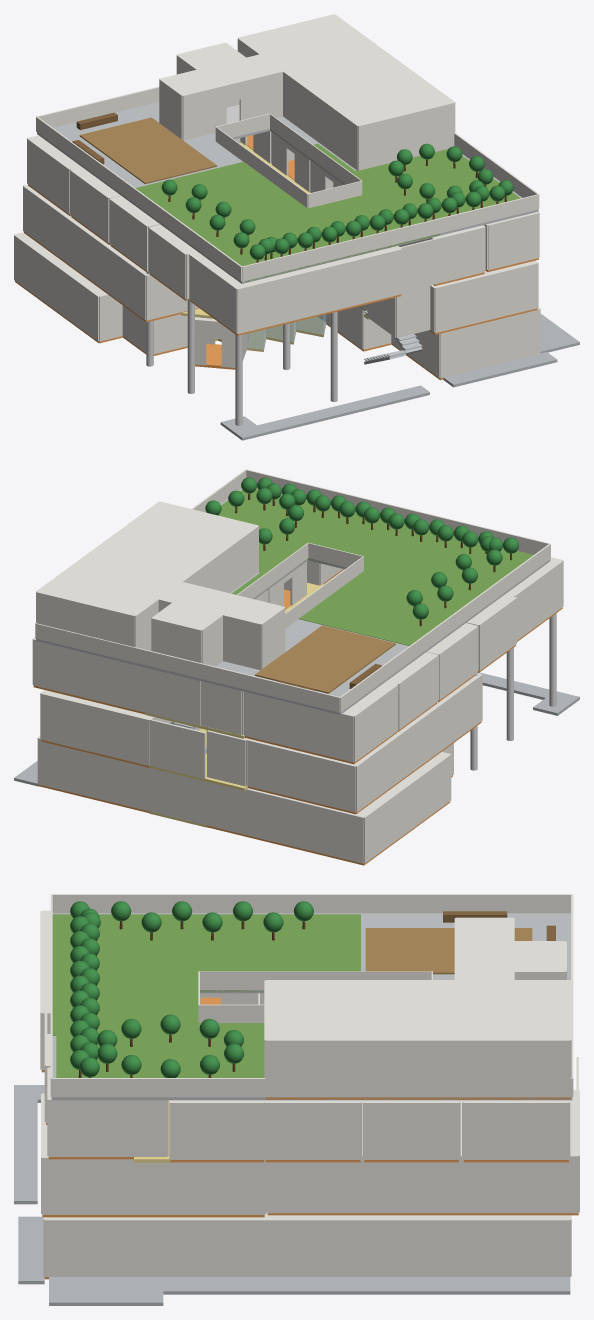
The model's file is school_building_1_parts.obj.
3 views of the same model, one above another, from view 1: azimuth 30°, elevation 25°; view 2: azimuth 150°, elevation 25°; view 3: azimuth 270°, elevation 25° (orthographic). The views are drawn at different scales.
Parts seen in each view (by area): view 1: RF_Roof_Garden_001, RF_Ceiling_003, 3F_Wall_024, RF_Roof_Terrace_001, RF_Roof_Slab_001, 2F_Wall_033, RF_Parapet_031, 1F_Wall_029, RF_Parapet_023, 1F_Wall_005, RF_Roof_Garden_002, RF_Parapet_024 (+44 smaller); view 2: RF_Roof_Garden_001, RF_Ceiling_003, 1F_Wall_001, 2F_Wall_001, 2F_Wall_016, 3F_Wall_026, RF_Roof_Terrace_001, RF_Parapet_029, 3F_Wall_001, 1F_Wall_027, 1F_Wall_005, RF_Parapet_032 (+35 smaller); view 3: 1F_Wall_028, RF_Roof_Garden_001, RF_Parapet_022, RF_Ceiling_003, 2F_Wall_032, 1F_Ground_001, RF_Parapet_032, 3F_Wall_048, 3F_Wall_027, RF_Roof_Garden_002, 2F_Wall_017, RF_Roof_Slab_001 (+19 smaller).
Part boxes in pixels (x1,y1,x2,y2): RF_Roof_Garden_001: [135, 143, 439, 282]; RF_Ceiling_003: [239, 15, 452, 125]; 3F_Wall_024: [237, 248, 401, 333]; RF_Roof_Terrace_001: [79, 117, 217, 184]; RF_Roof_Slab_001: [37, 102, 538, 283]; 2F_Wall_033: [435, 262, 538, 332]; RF_Parapet_031: [242, 194, 538, 281]; 1F_Wall_029: [440, 309, 540, 378]; RF_Parapet_023: [358, 102, 454, 170]; 1F_Wall_005: [14, 235, 98, 341]; RF_Roof_Garden_002: [356, 149, 520, 221]; RF_Parapet_024: [283, 71, 358, 170]; RF_Roof_Garden_001: [232, 511, 533, 645]; RF_Ceiling_003: [37, 502, 257, 614]; 1F_Wall_001: [247, 789, 363, 863]; 2F_Wall_001: [247, 740, 355, 812]; 2F_Wall_016: [41, 693, 149, 765]; 3F_Wall_026: [33, 638, 144, 712]; RF_Roof_Terrace_001: [255, 625, 395, 693]; RF_Parapet_029: [35, 623, 340, 712]; 3F_Wall_001: [244, 692, 353, 762]; 1F_Wall_027: [38, 737, 148, 811]; 1F_Wall_005: [364, 754, 451, 863]; RF_Parapet_032: [340, 543, 550, 712]; 1F_Wall_028: [44, 1219, 570, 1276]; RF_Roof_Garden_001: [52, 914, 360, 1035]; RF_Parapet_022: [265, 1039, 570, 1097]; RF_Ceiling_003: [266, 980, 570, 1039]; 2F_Wall_032: [42, 1157, 264, 1214]; 1F_Ground_001: [49, 1277, 570, 1305]; RF_Parapet_032: [51, 894, 572, 913]; 3F_Wall_048: [48, 1099, 167, 1156]; 3F_Wall_027: [463, 1102, 568, 1159]; RF_Roof_Garden_002: [56, 1035, 264, 1077]; 2F_Wall_017: [467, 1155, 578, 1213]; RF_Roof_Slab_001: [51, 913, 572, 1100].
Bounding box in the file's own units: 28.65 × 14.44 × 30.66.
